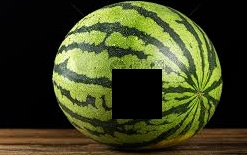watermelon: (53, 1, 221, 148)
